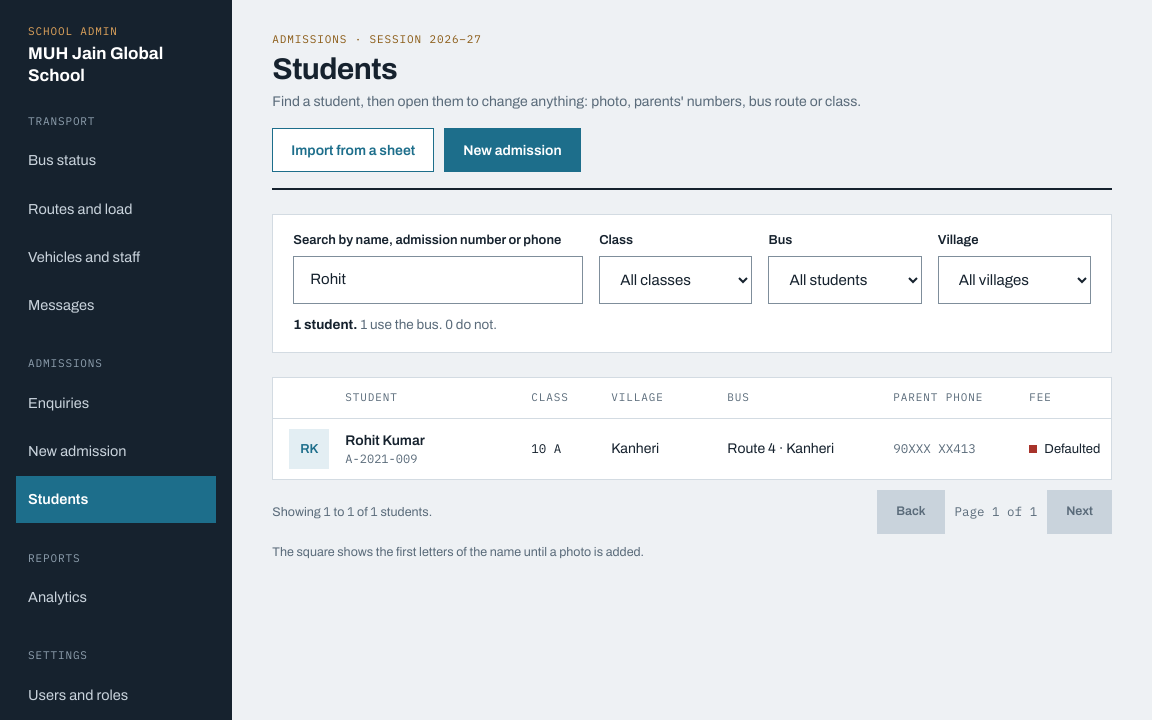
it: Students page: the Fee column › studentsListShowsFeeStatus: On time, Delayed and Defaulted, each with its words
Expected: the table named "Students" is shown, [273,378,1112,479]
Expected: the column heading "Fee" is shown, [1029,390,1112,406]
Step 1. Replace the text in the search field with "Mohit" → (438, 280), box [293,256,583,304]
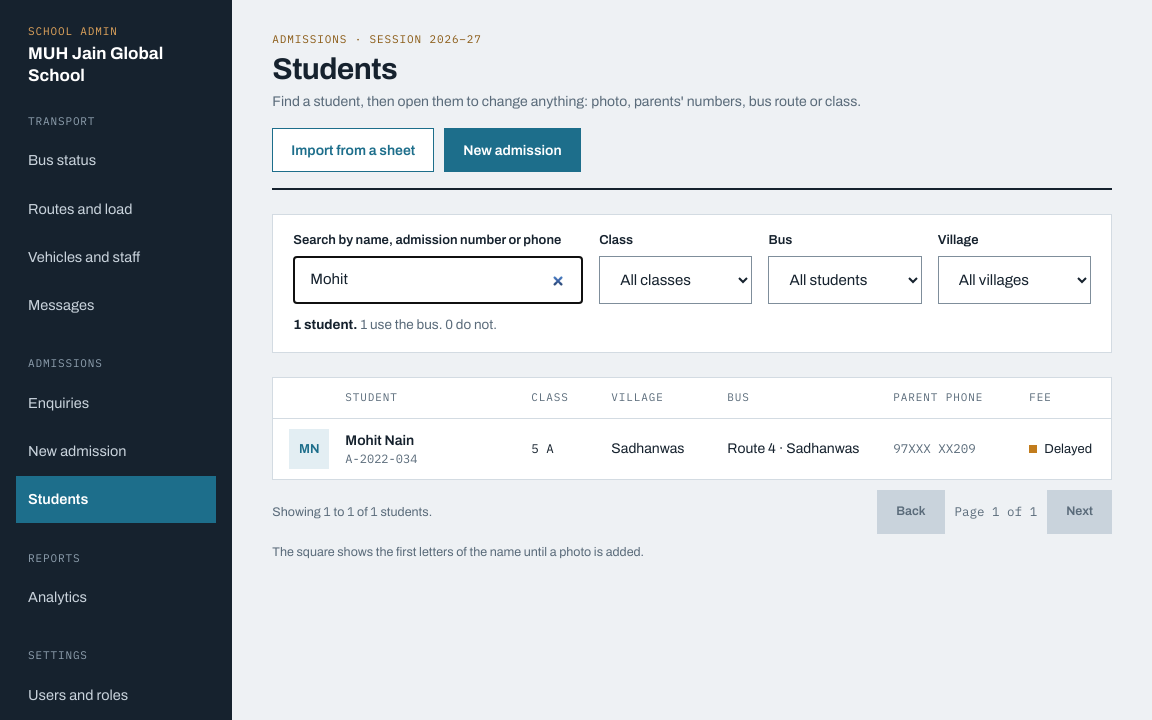
Expected: the text "Mohit Nain" is shown, [345,433,414,448]
Expected: the cell "Delayed" is shown, [1029,439,1112,459]
Step 2. Replace the text in the search field with "Ishaan" → (438, 280), box [293,256,583,304]
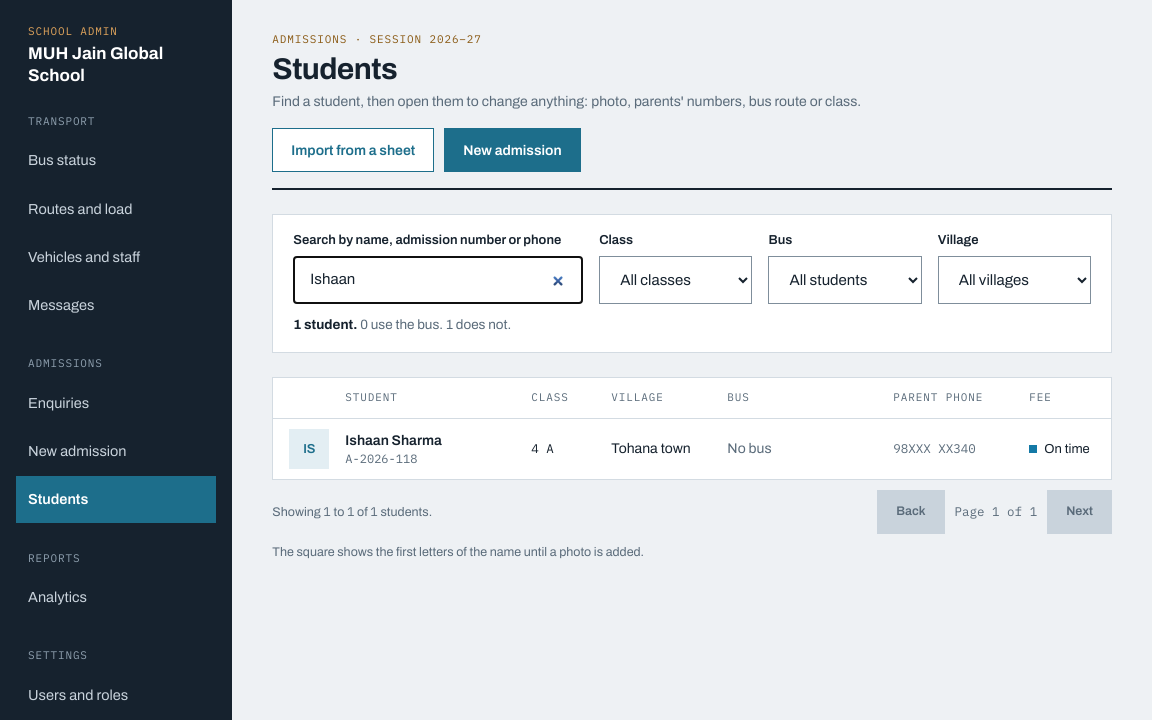
Expected: the text "Ishaan Sharma" is shown, [345,433,442,448]
Expected: the cell "On time" is shown, [1029,439,1112,459]
